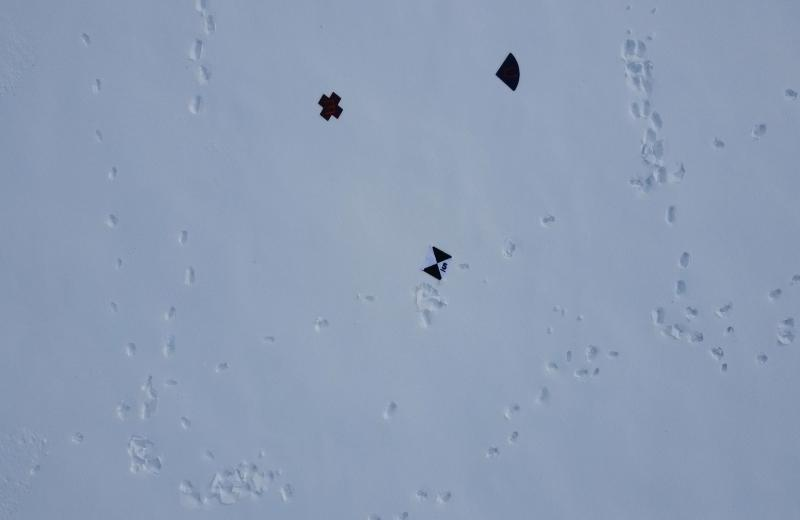Cross: (314, 86, 344, 122)
Quarter Circle: (493, 51, 524, 96)
